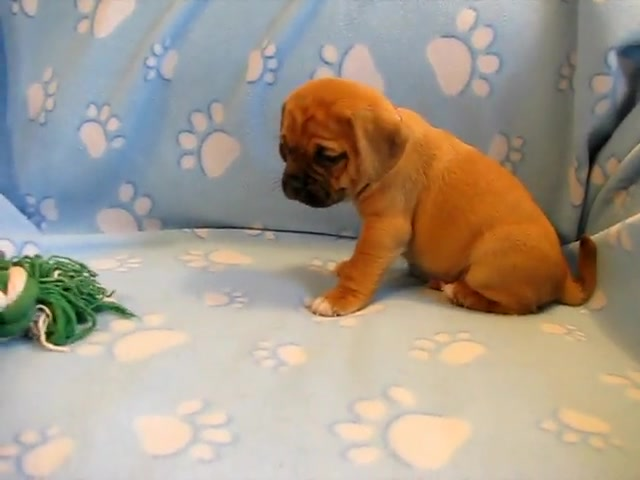dog: (279, 78, 602, 317)
